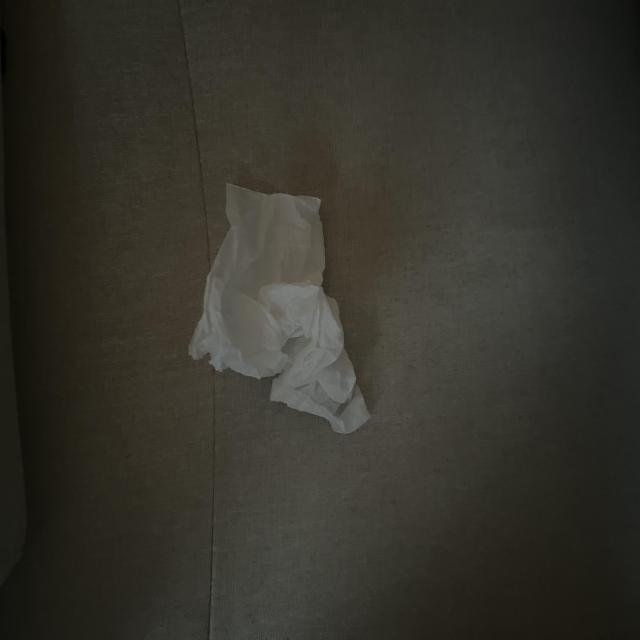衛生紙: (250, 137, 494, 327)
